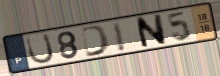5: (165, 9, 192, 42)
8: (56, 30, 81, 60)
D: (79, 24, 111, 59)
I: (110, 19, 127, 53)
N: (134, 12, 168, 50)
U: (24, 32, 55, 66)
